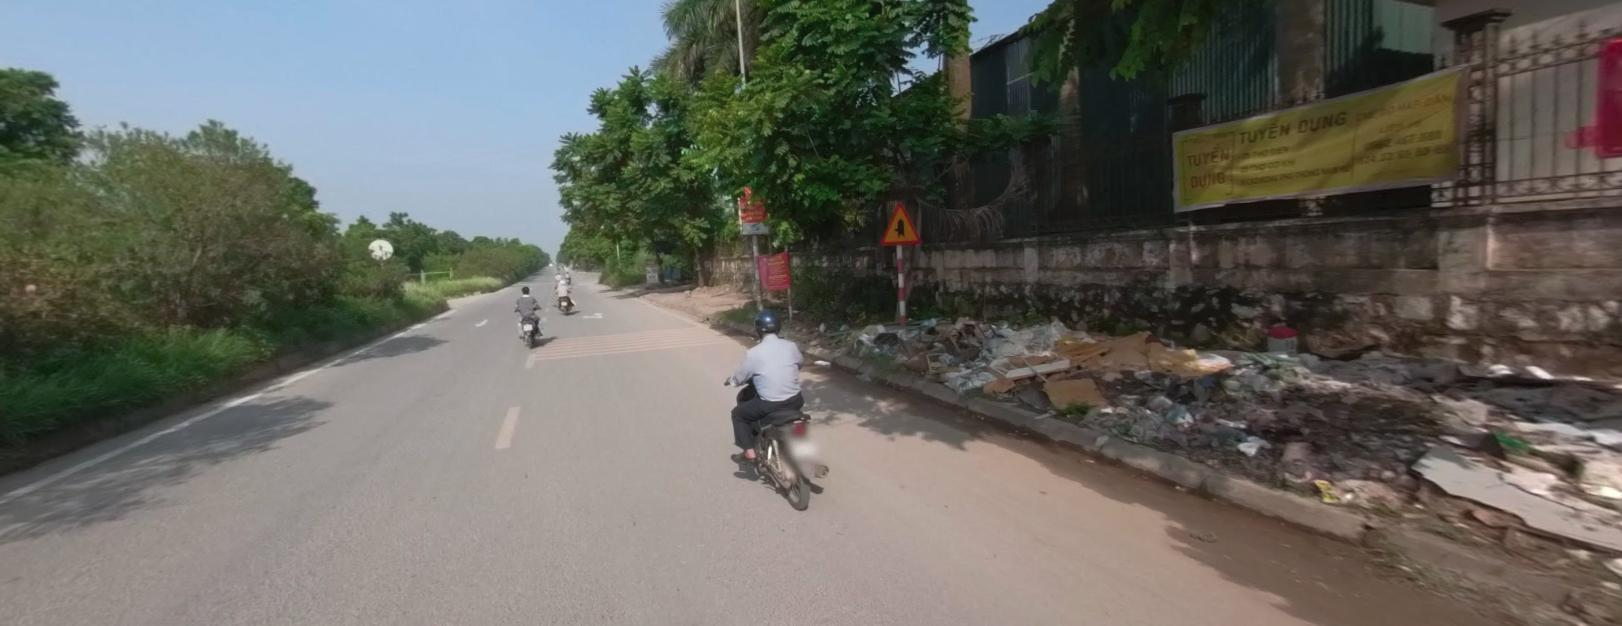Nguy hiem: (877, 198, 920, 244), (881, 201, 920, 244)
